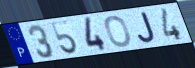3: (27, 23, 55, 59)
4: (84, 16, 107, 53), (160, 7, 183, 42)
5: (49, 19, 80, 56)
J: (137, 11, 157, 44)
O: (103, 15, 133, 49)
